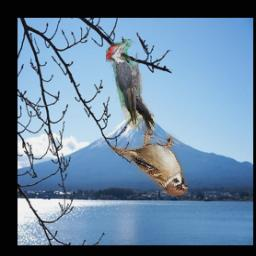Sparrow: (111, 132, 188, 196)
Woodpecker: (107, 40, 156, 132)
